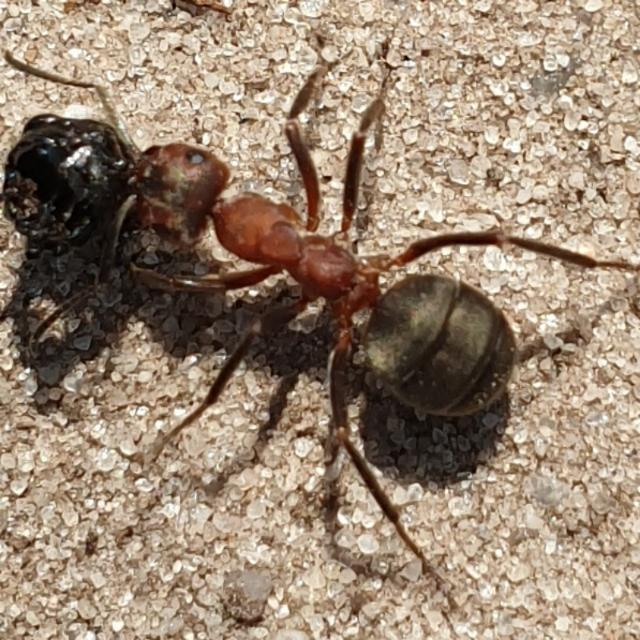Formica: (40, 80, 556, 450)
